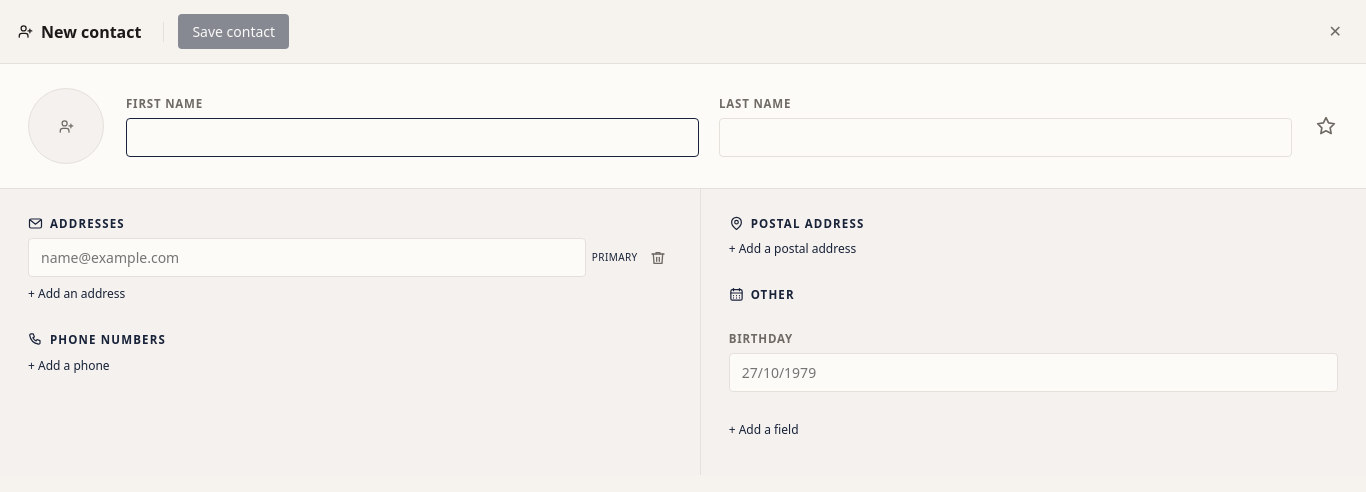
Test: ContactEditView › enables save on an address alone
Type "bruno@x.be" into the field named "address 1" at (307, 258), box [28, 238, 586, 277]
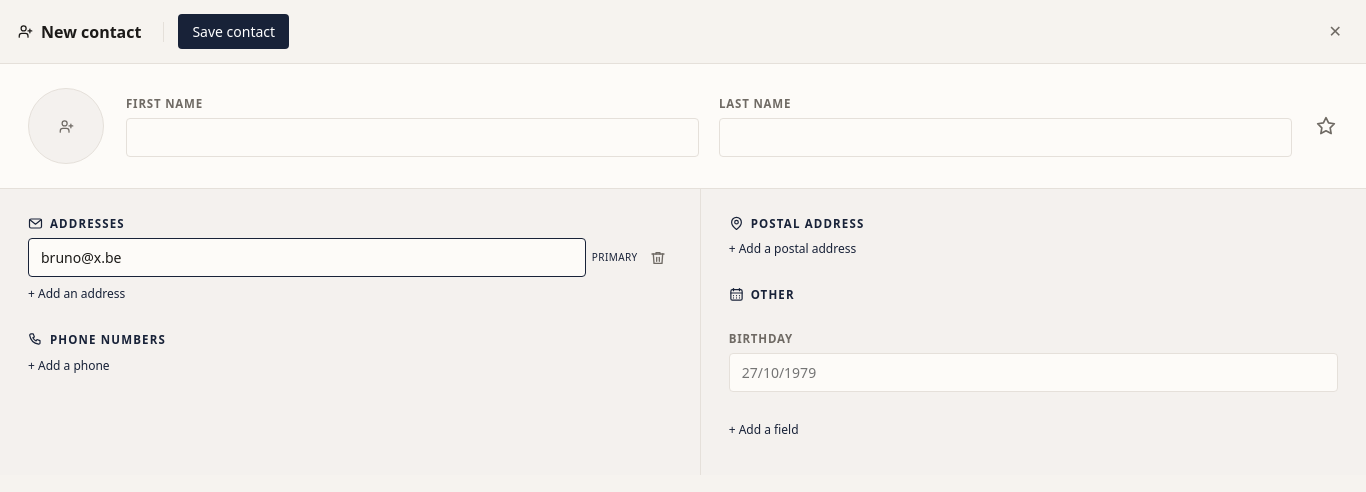
expect the button "Save contact" is enabled: met, box [178, 14, 289, 49]
